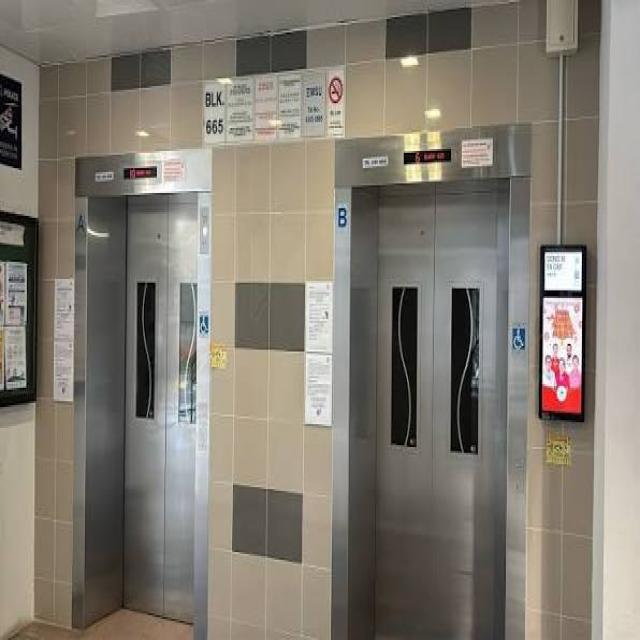elevator: (325, 120, 536, 640), (71, 134, 214, 633)
